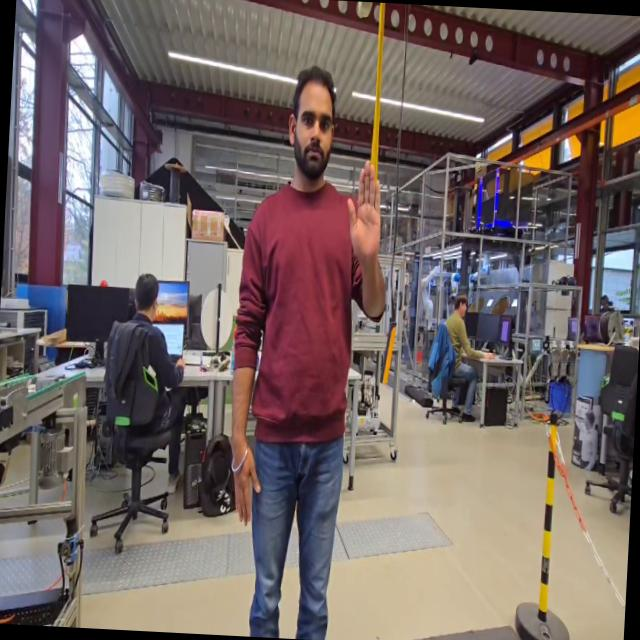open_palm: (341, 154, 388, 270)
